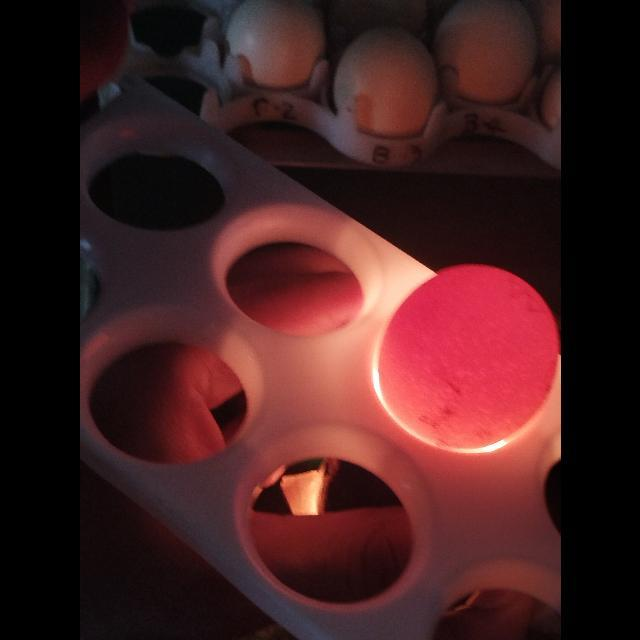Infertile: (380, 255, 556, 441)
